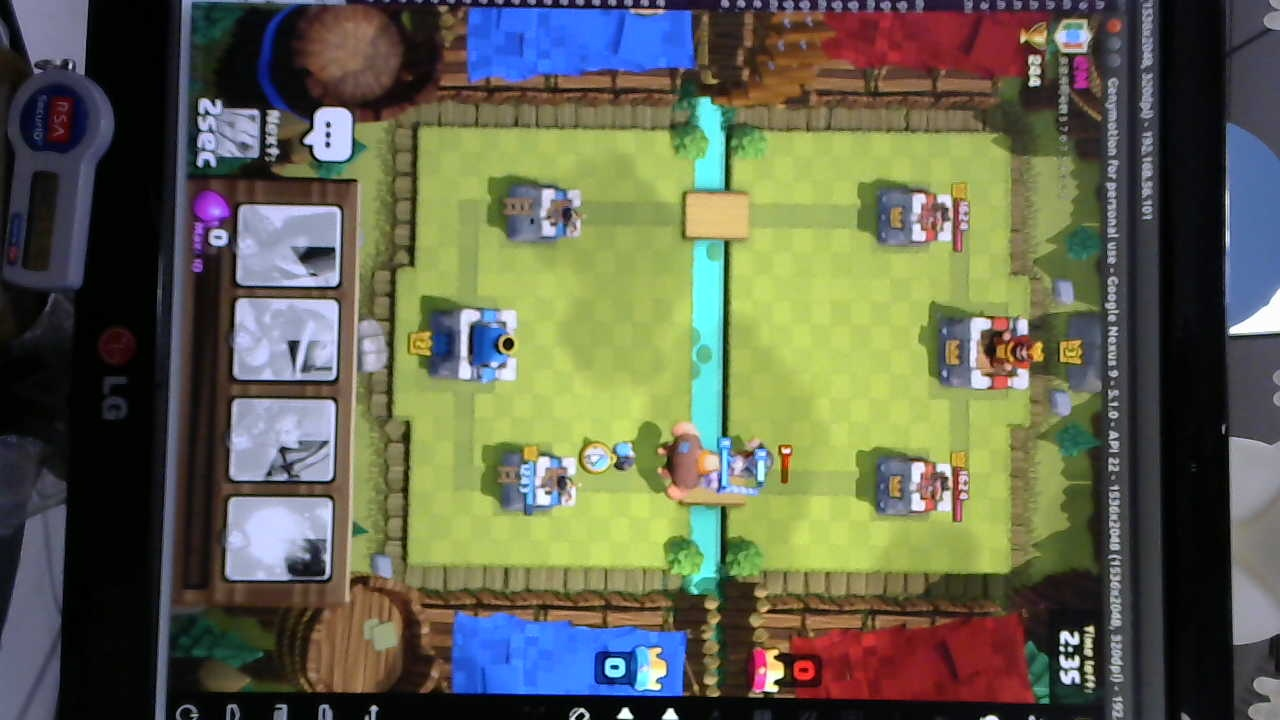arena: (499, 450, 583, 516), (504, 184, 582, 243)
bomb: (610, 435, 639, 478)
earena: (876, 185, 952, 246), (879, 455, 953, 516)
eking: (935, 312, 1039, 392)
giant: (662, 415, 717, 509)
king: (434, 307, 520, 386)
knight: (734, 437, 775, 493)
prince: (702, 441, 758, 496)
